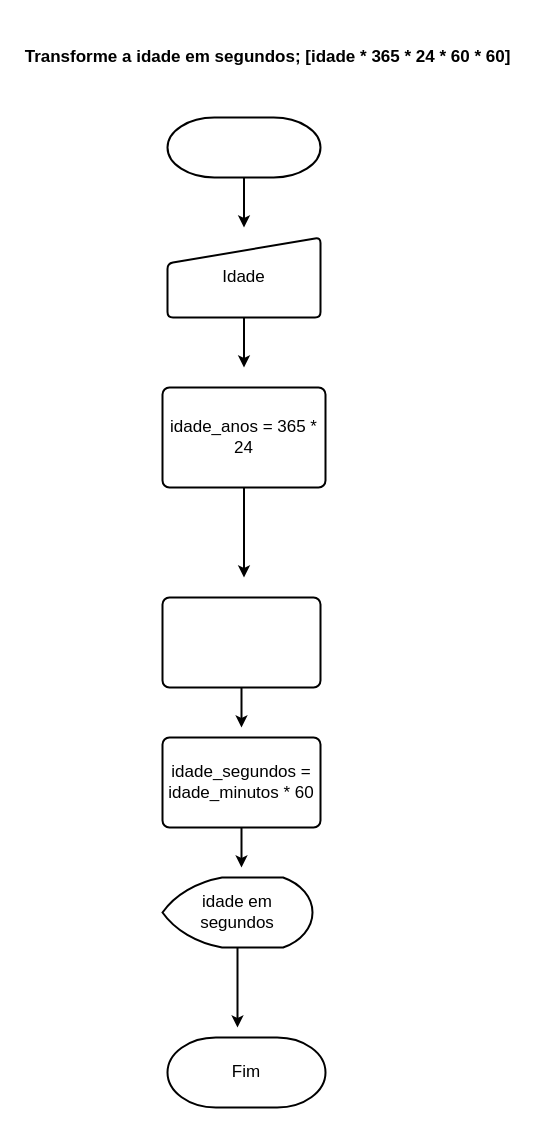
Image size: 534x1125. Some labels were removed from this diagram. Here are the shapes that lost their labels. From the top down, the centre of each, then its label:
(243,147): Inicio
(241,642): idade_minutos = idade_anos * 60
